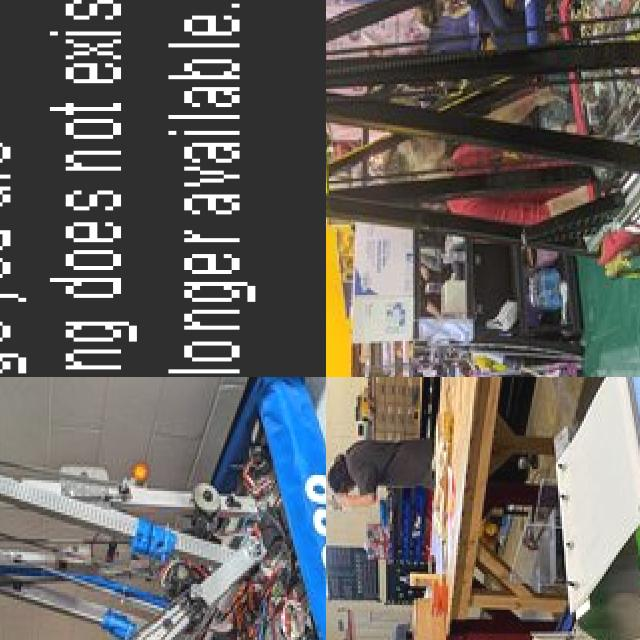FRC-Robots: (326, 0, 640, 368), (0, 377, 326, 640), (326, 377, 640, 640)
